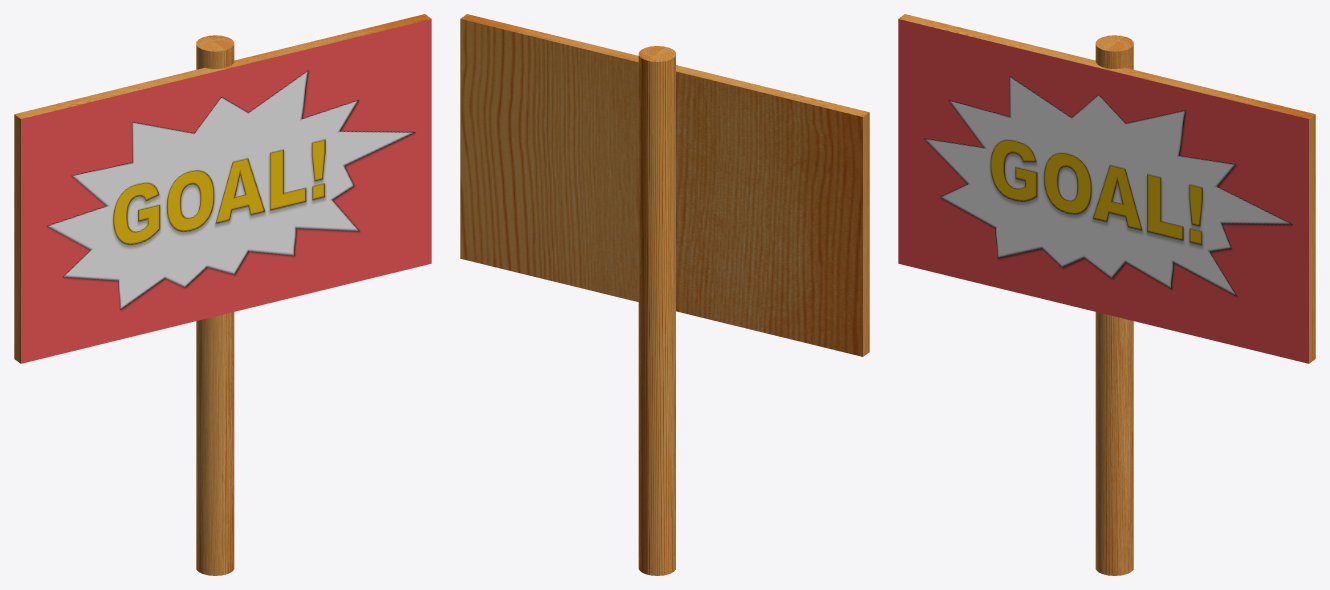
Rendered from TutoSinBord_goal.FBX.
3 renders of one model, left to right at view 1: azimuth 30°, elevation 25°; view 2: azimuth 150°, elevation 25°; view 3: azimuth 330°, elevation 25°, orthographic. The views are drawn at different scales.
Visible parts, largest first — view 1: Box001, Cylinder001; view 2: Box001, Cylinder001; view 3: Box001, Cylinder001.
Part boxes in pixels (x1=…): Box001: x1=14, y1=14, x2=431, y2=363; Cylinder001: x1=196, y1=35, x2=234, y2=575; Box001: x1=460, y1=14, x2=869, y2=356; Cylinder001: x1=638, y1=46, x2=675, y2=575; Box001: x1=898, y1=14, x2=1315, y2=363; Cylinder001: x1=1095, y1=35, x2=1133, y2=575.
Bounding box in the file's own units: 480 × 585 × 41.66.
Materials: 2 (2 with a texture image).
